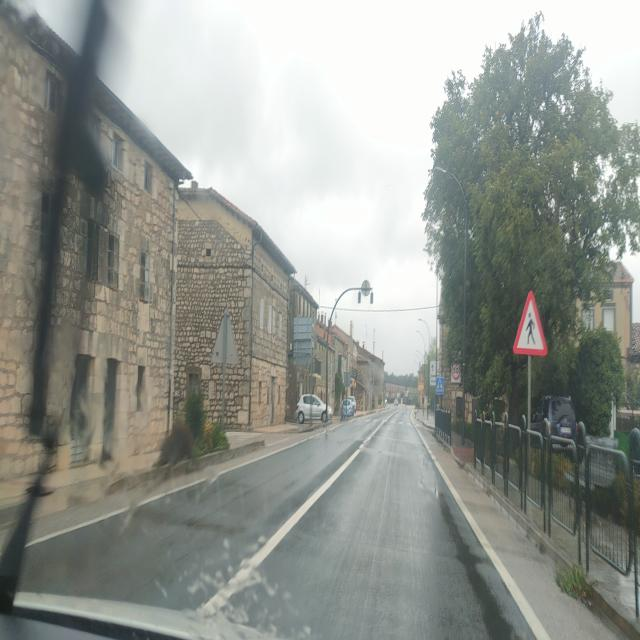Poth-hole: (416, 450, 523, 640)
